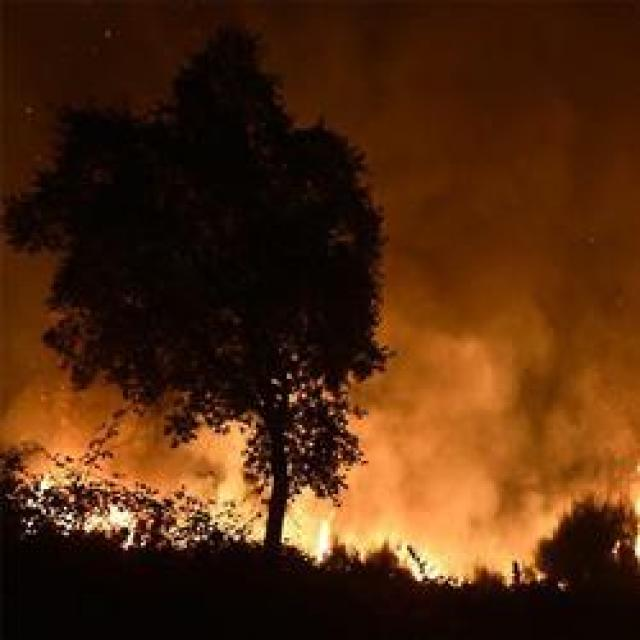fire: (306, 516, 344, 565)
smoke: (409, 326, 541, 547), (558, 313, 640, 487)
